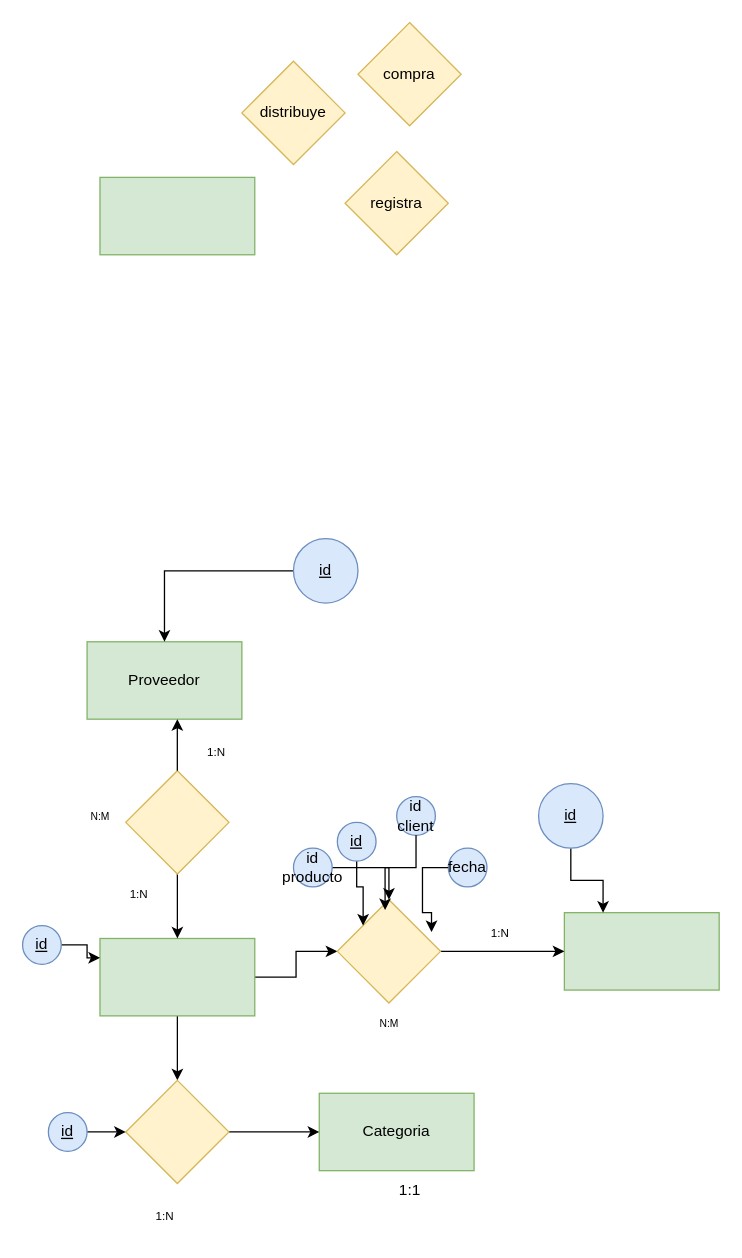
This 742x1258 diagram has some shape labels left out. Here are the shapes that lost their labels. From the top down, the centre of each, then its label:
(x=177, y=215): Empresa
(x=176, y=821): vende
(x=388, y=950): venta
(x=641, y=950): Cilente
(x=177, y=976): Producto
(x=176, y=1131): tiene
